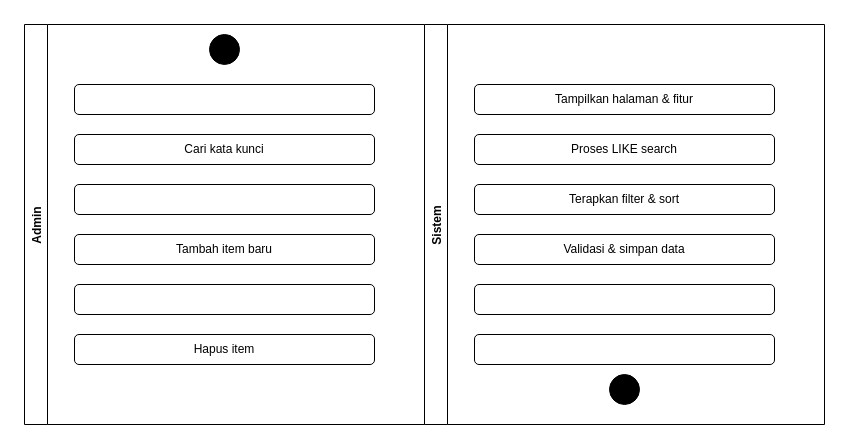
This 842x442 diagram has some shape labels left out. Here are the shapes that lost their labels. From the top down, the centre of each, then its label:
At pixel 224 99: "Akses halaman inventaris".
At pixel 224 199: "Filter kategori / stok".
At pixel 224 299: "Edit item existing".
At pixel 624 299: "Validasi & update data".
At pixel 624 349: "Konfirmasi & hapus item".
